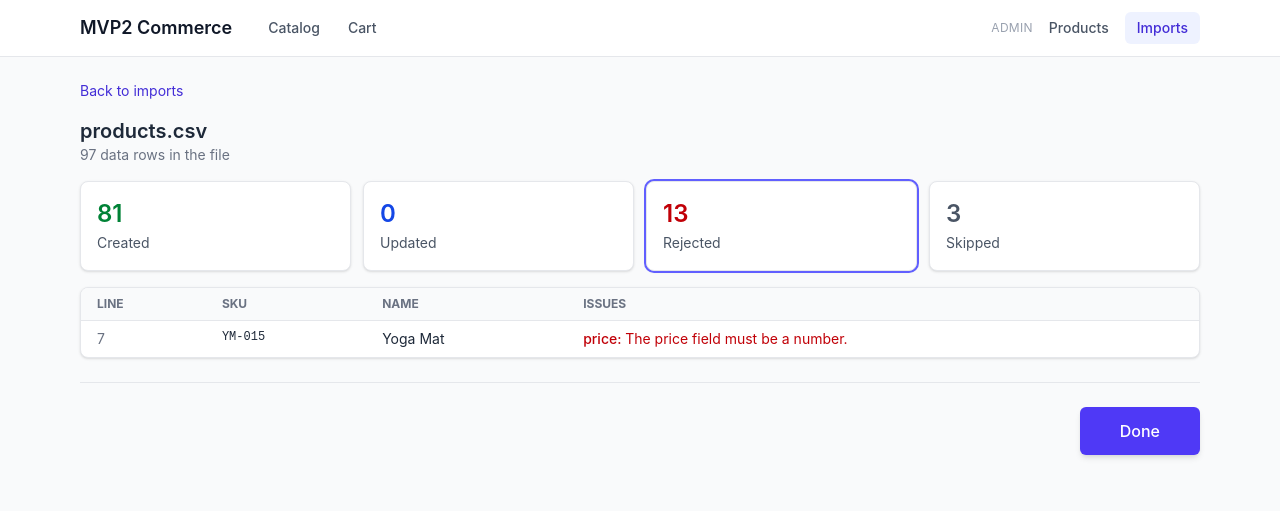
Test: import detail › lists the rejected rows with their reasons first and filters by status
Expected: the text "YM-015" is shown, [222,330,265,344]
Expected: the list item "The price field must be a number." is shown, [625,330,848,347]
Click the tab "3 Skipped": (973, 242) [929,181,1200,271]
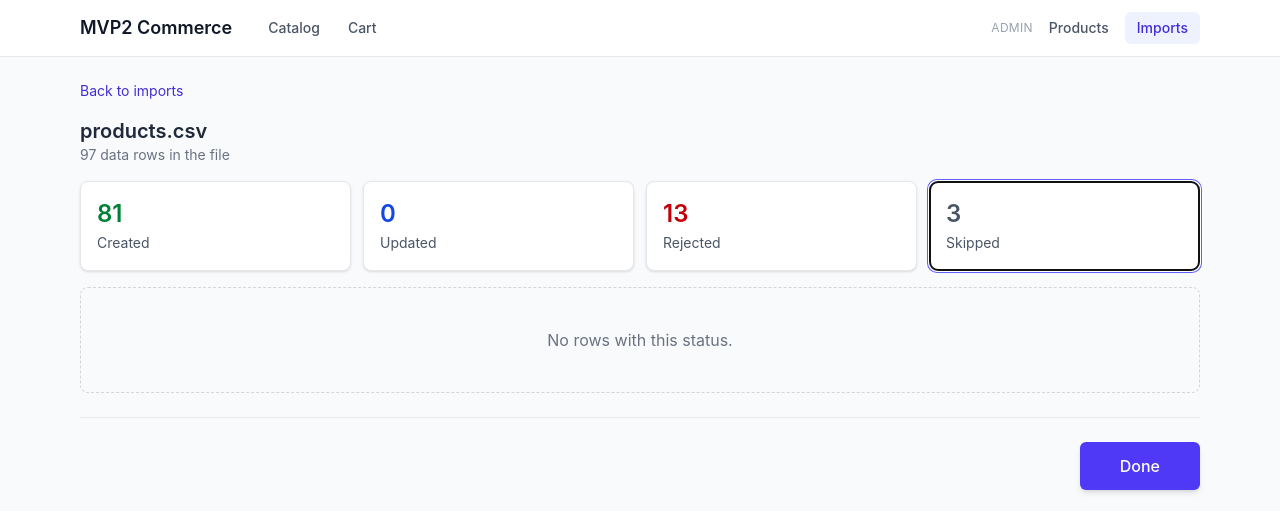
Expected: the text "No rows with this status." is shown, [80,287,1200,393]
